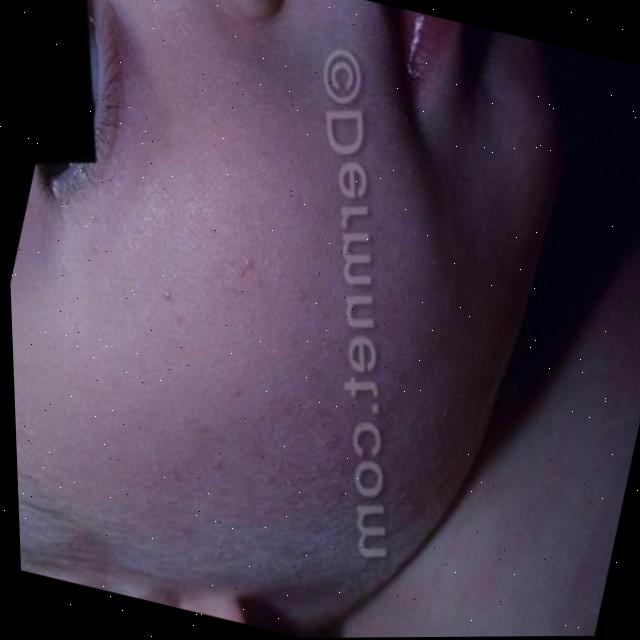Eczema: (148, 355, 432, 618)
